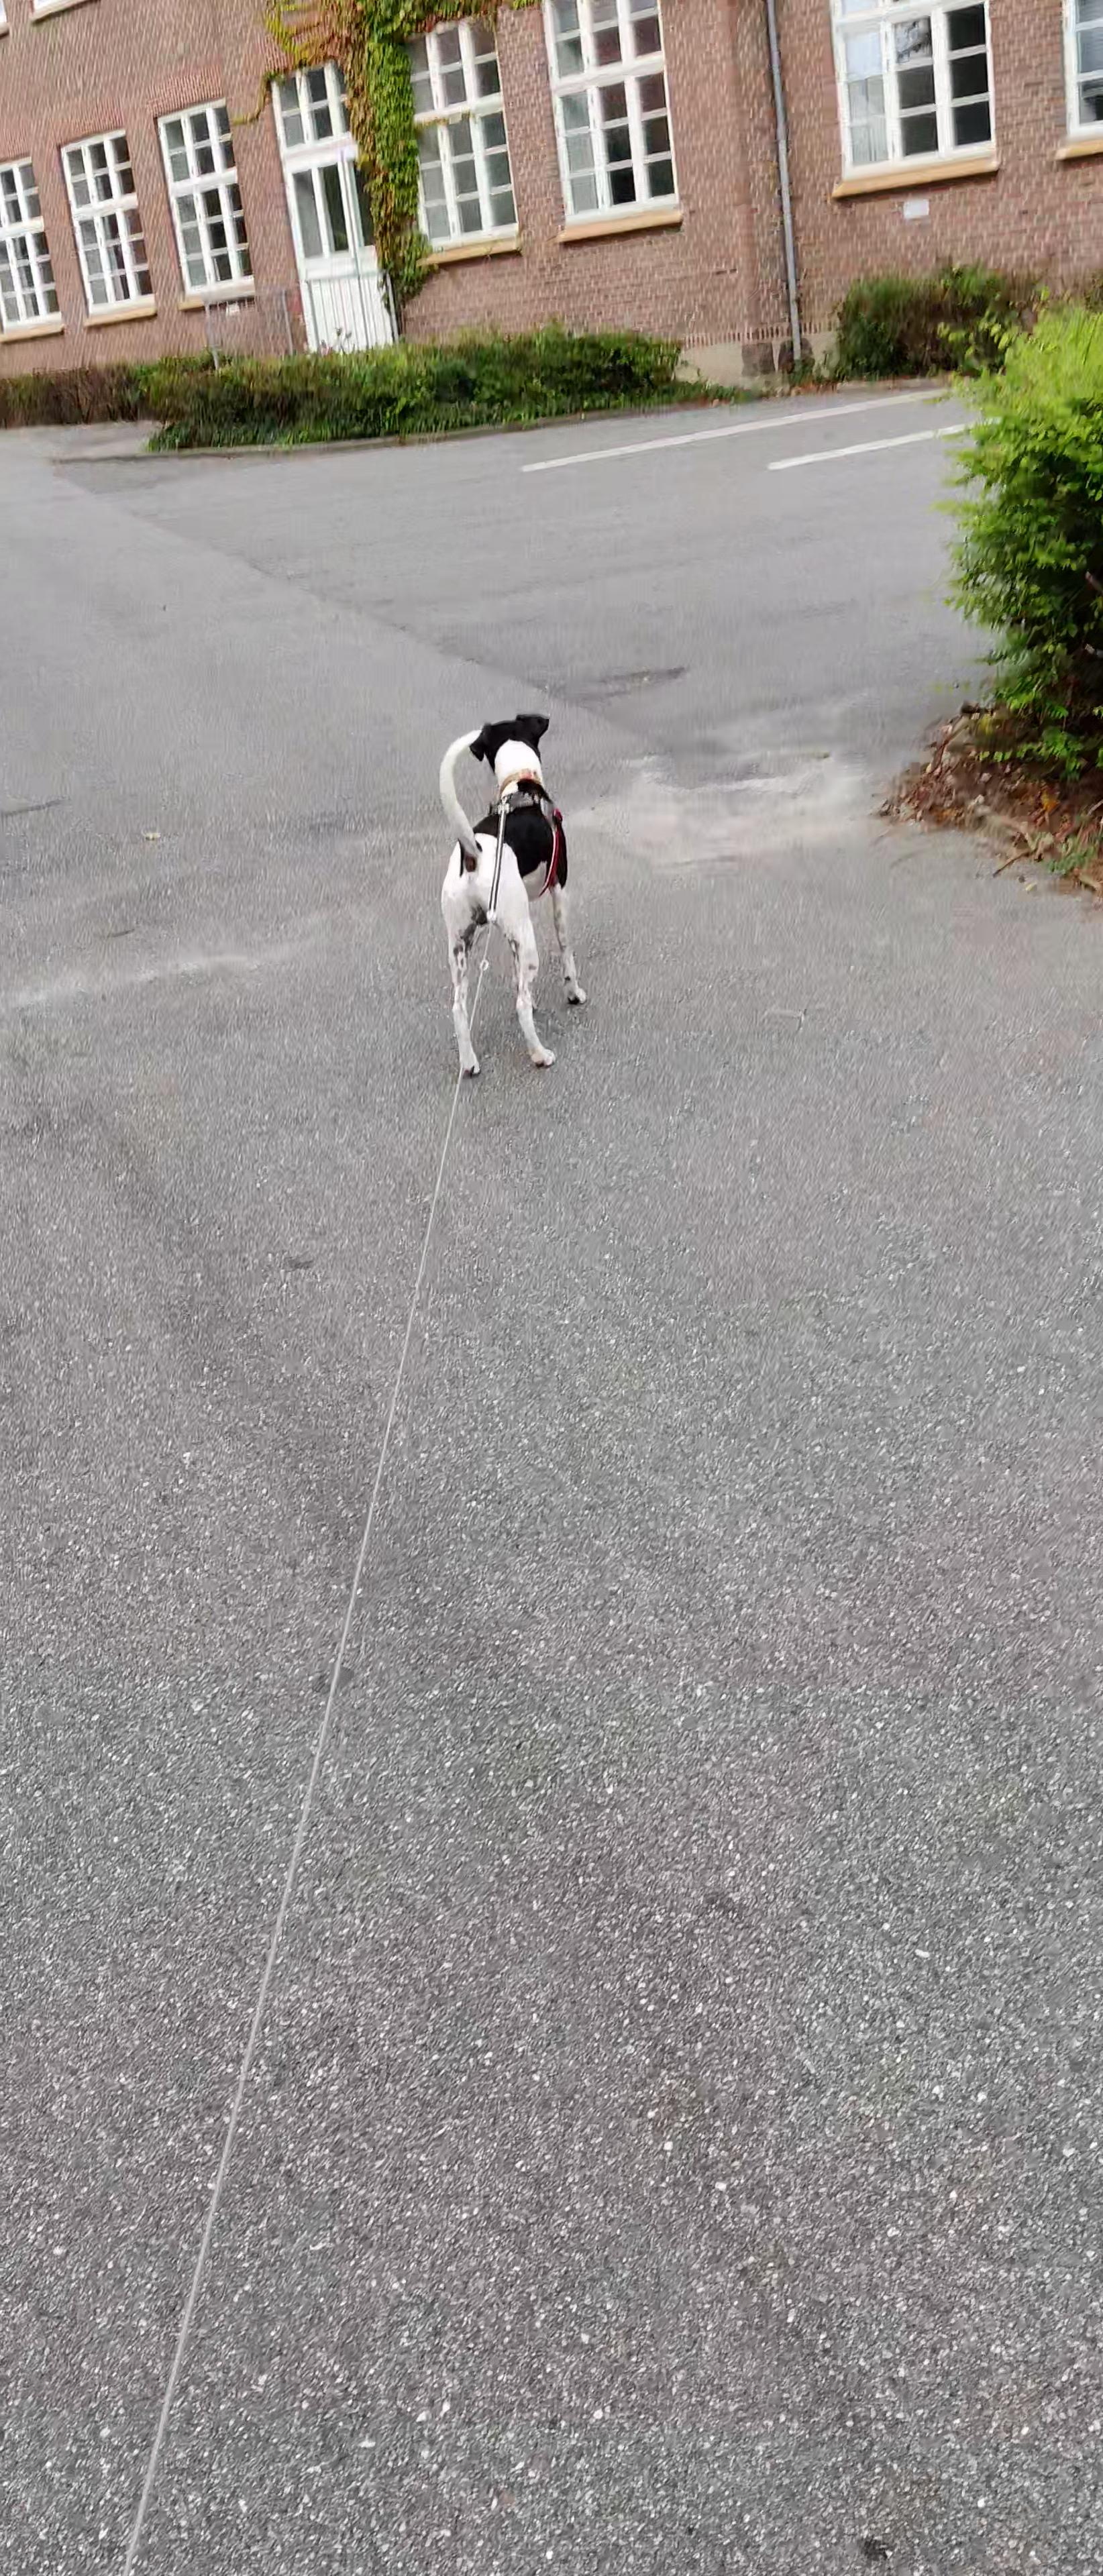Dog: (429, 695, 595, 1084)
